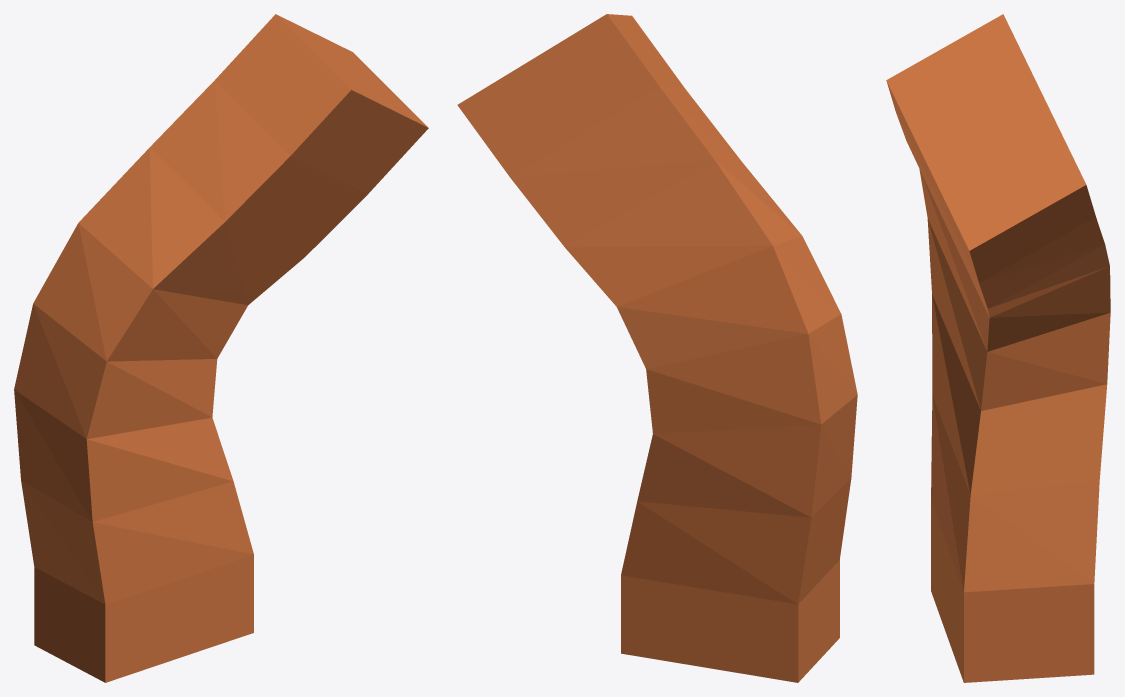
File: rest-pose.glb
The picture shows the model from 3 angles, left to right: view 1: azimuth 30°, elevation 25°; view 2: azimuth 150°, elevation 25°; view 3: azimuth 270°, elevation 25°; orthographic projection. The views are drawn at different scales.
Parts seen in each view (by area): view 1: Flexible column · 当前姿态; view 2: Flexible column · 当前姿态; view 3: Flexible column · 当前姿态.
Boxes of the visible parts, bbox=[...] form: Flexible column · 当前姿态: bbox=[14, 14, 428, 682]; Flexible column · 当前姿态: bbox=[457, 14, 857, 682]; Flexible column · 当前姿态: bbox=[886, 14, 1110, 682].
Bounding box in the file's own units: 1.51 × 2.29 × 0.6732.
